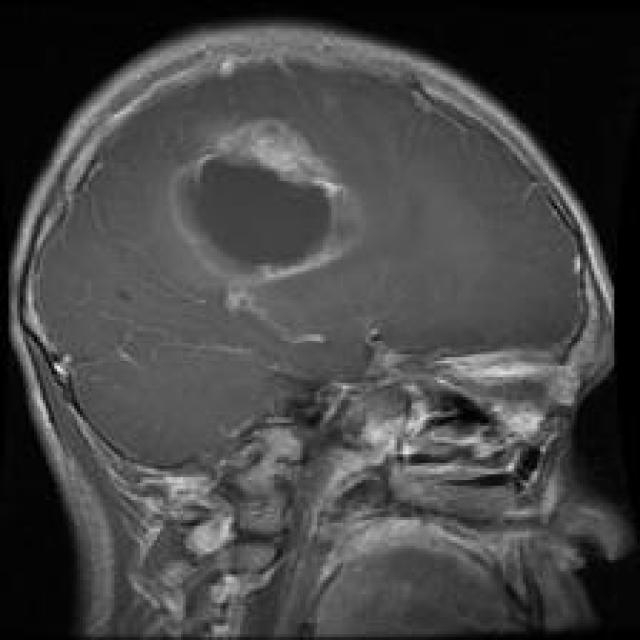glioma_tumor: (149, 105, 368, 315)
